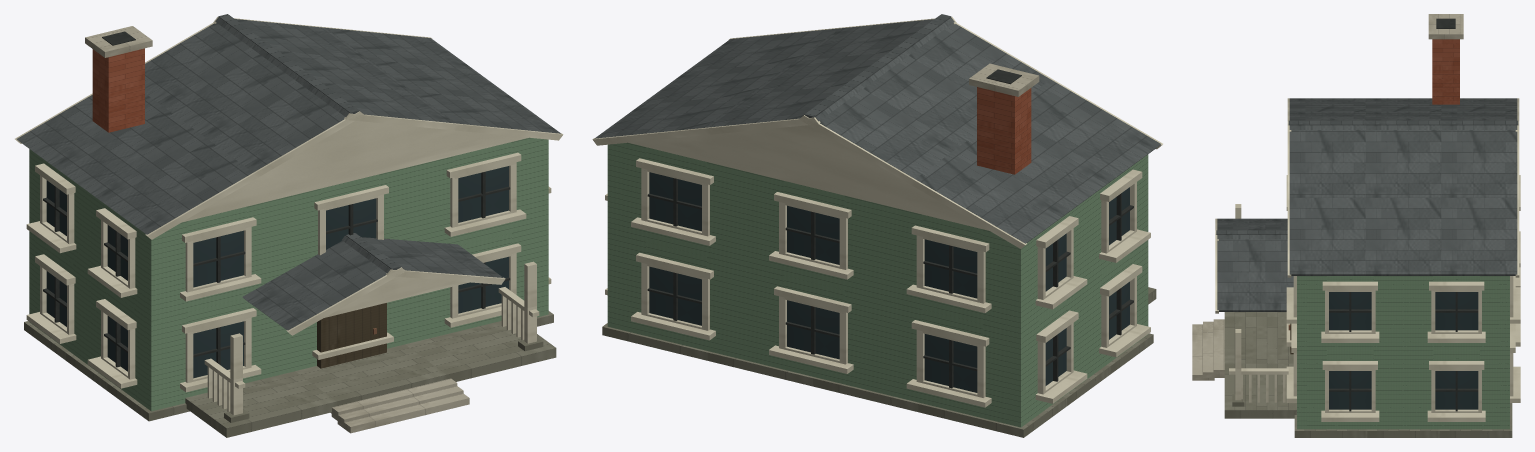
The model's file is suburb-house.glb.
3 views of the same model, side by side, from view 1: azimuth 30°, elevation 25°; view 2: azimuth 150°, elevation 25°; view 3: azimuth 270°, elevation 25° (orthographic). The views are drawn at different scales.
Visible parts, largest first — view 1: suburb-house.001; view 2: suburb-house.001; view 3: suburb-house.001.
Part boxes in pixels (x1,y1,x2,y2): suburb-house.001: (15,14,563,437); suburb-house.001: (592,14,1162,437); suburb-house.001: (1192,14,1520,437).
Size of the model in its own units: 7.5 by 5.16 by 5.68.
1 material, 1 textured.
